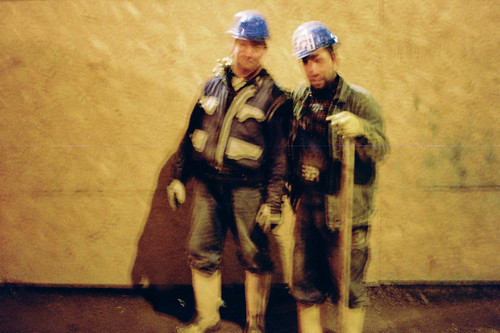person hardhat: (270, 19, 387, 333), (168, 13, 283, 332)
